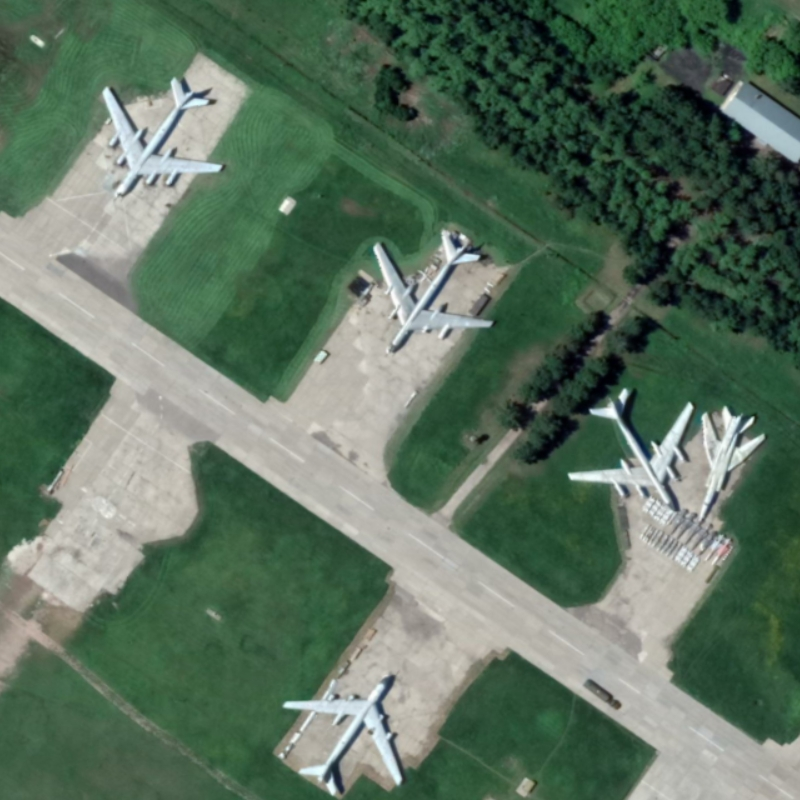A12: (697, 403, 768, 523)
A17: (565, 386, 696, 514), (280, 674, 405, 799), (100, 75, 224, 200), (371, 232, 495, 356)
